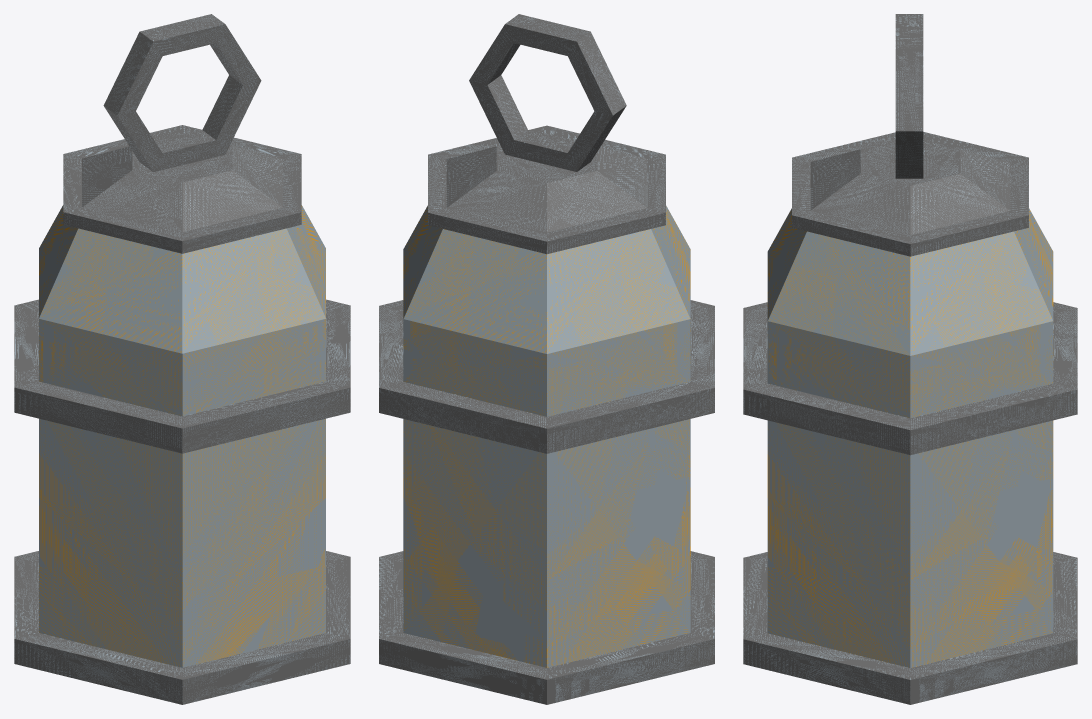
Rendered from Lantern_01.fbx.
3 views of the same model, side by side, from view 1: azimuth 30°, elevation 25°; view 2: azimuth 150°, elevation 25°; view 3: azimuth 270°, elevation 25° (orthographic).
Visible parts, largest first — view 1: Model; view 2: Model; view 3: Model.
Boxes of the visible parts, left/top/right/bottom form: Model: left=14, top=14, right=350, bottom=704; Model: left=379, top=14, right=714, bottom=704; Model: left=743, top=14, right=1077, bottom=704.
Bounding box in the file's own units: 140 × 237 × 121.
